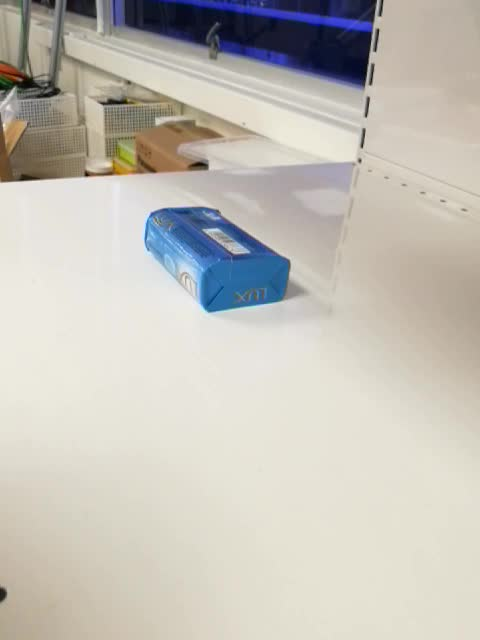soap: (143, 203, 292, 313)
